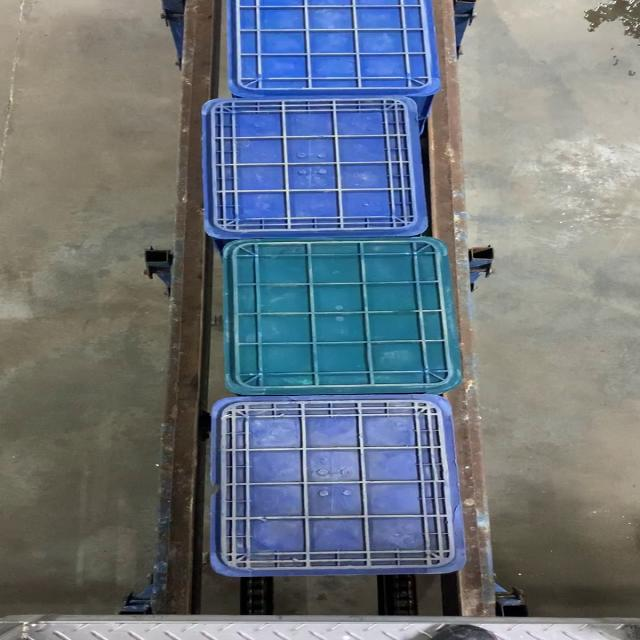Box: (213, 396, 462, 576), (222, 240, 468, 396), (196, 94, 428, 240)
